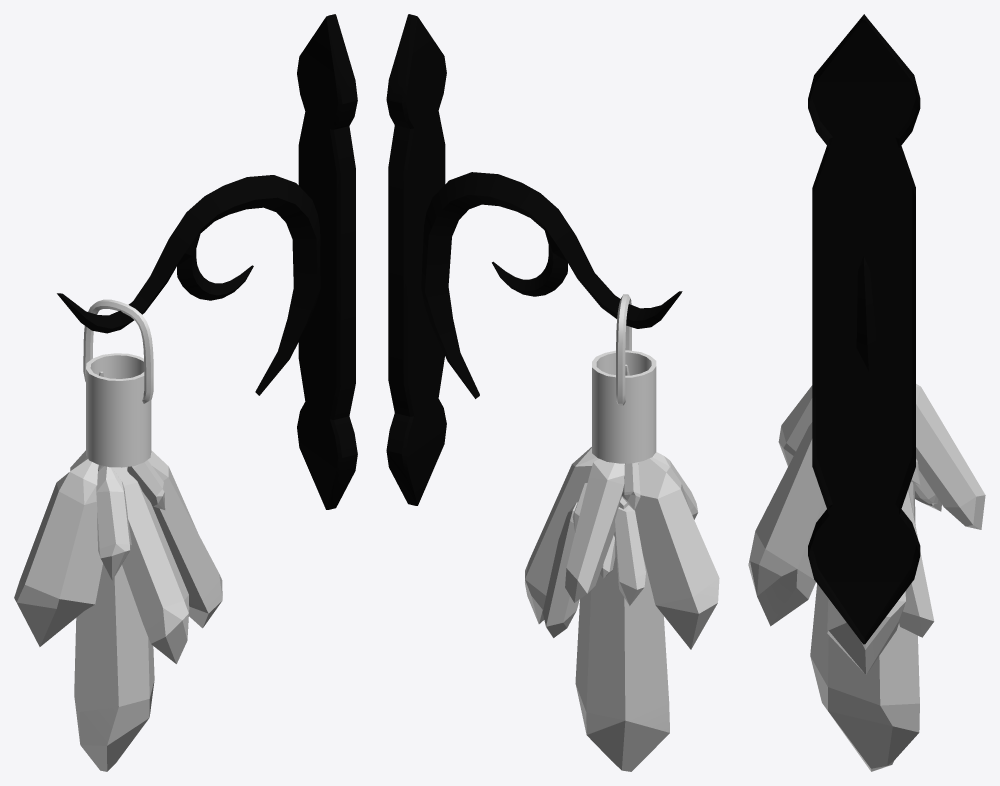
File: WallMounted.fbx
3 renders of one model, left to right at view 1: azimuth 30°, elevation 25°; view 2: azimuth 150°, elevation 25°; view 3: azimuth 270°, elevation 25°, orthographic. The views are drawn at different scales.
Parts seen in each view (by area): view 1: Crystal03.002, New.002, Crystal03.003; view 2: Crystal03.002, New.002, Crystal03.003; view 3: New.002, Crystal03.002.
Part boxes in pixels (left/top/right/bottom): Crystal03.002: left=14, top=450, right=222, bottom=771; New.002: left=57, top=14, right=357, bottom=509; Crystal03.003: left=83, top=299, right=153, bottom=467; Crystal03.002: left=525, top=447, right=719, bottom=771; New.002: left=386, top=14, right=682, bottom=505; Crystal03.003: left=592, top=294, right=656, bottom=463; New.002: left=808, top=14, right=920, bottom=644; Crystal03.002: left=748, top=384, right=985, bottom=771.
Bounding box in the file's own units: 48.6 × 104 × 25.
